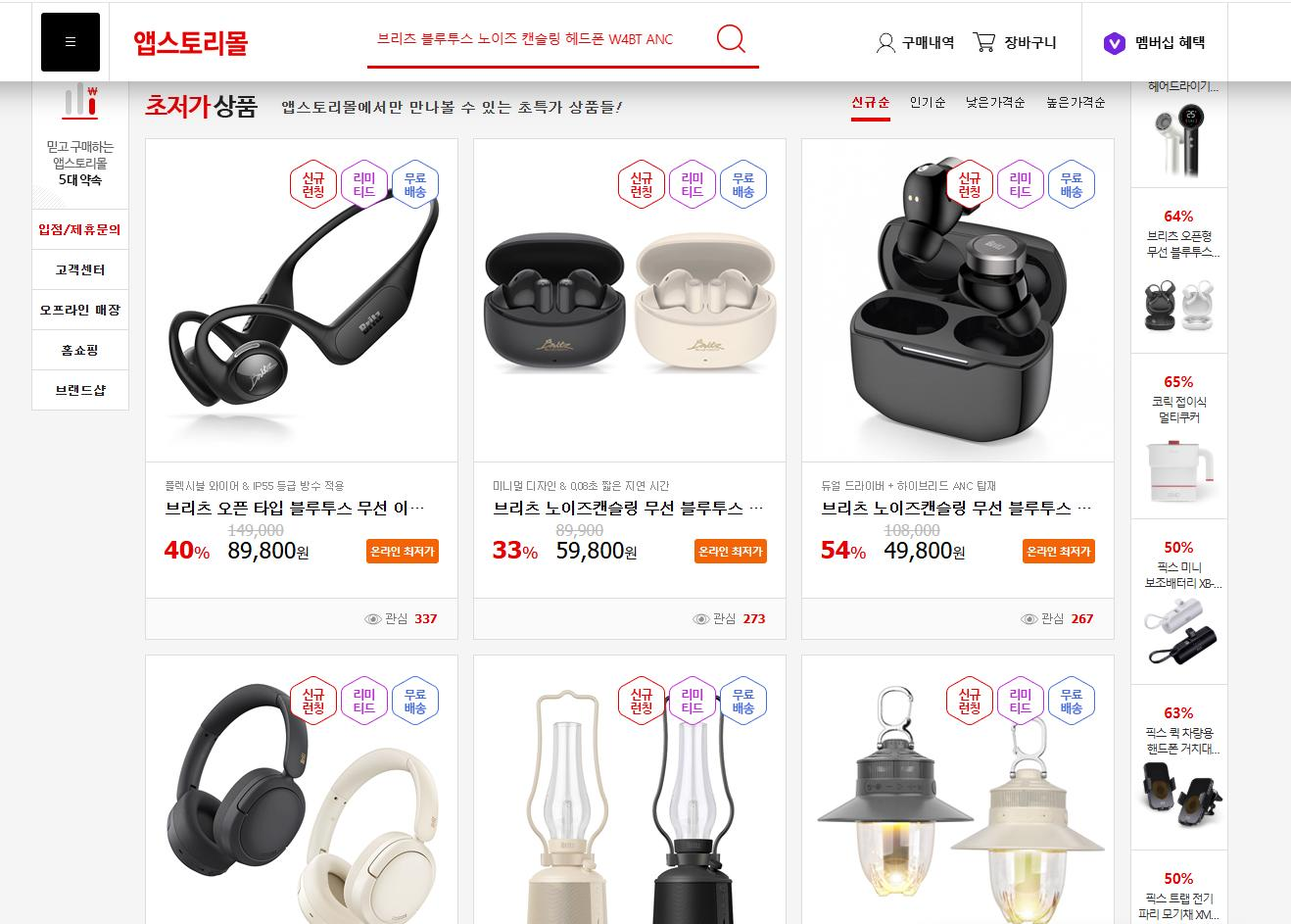button: (872, 27, 959, 62), (969, 29, 1064, 59), (1021, 535, 1096, 565), (370, 536, 442, 566), (695, 538, 767, 563), (715, 20, 760, 59), (961, 92, 1034, 113), (1043, 92, 1110, 113), (847, 90, 894, 114), (907, 90, 953, 114)
input_field: (367, 15, 763, 67)
popup: (1129, 79, 1227, 924), (33, 81, 125, 411)
